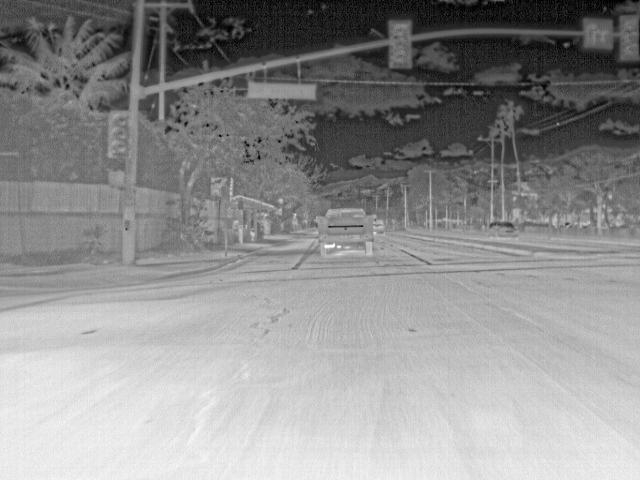car: (320, 206, 375, 259), (487, 220, 518, 240), (373, 218, 386, 236)
person: (232, 218, 242, 236)
